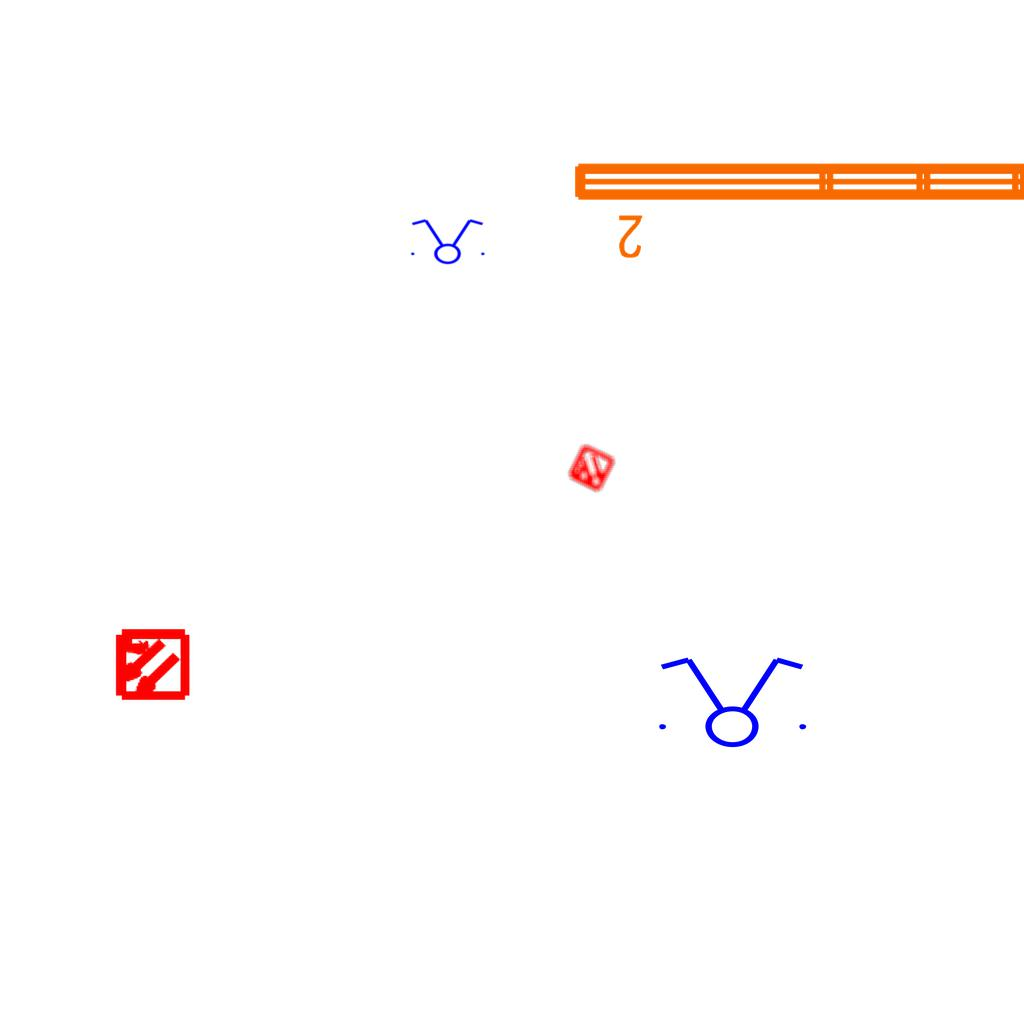Ambulanz_Pendelleuchte_LED: (566, 151, 1024, 263)
OT_Multisensormelder_(Kombination_RMO_WMD): (94, 608, 207, 721), (553, 431, 629, 507)
Serienschalter: (647, 653, 815, 749), (405, 217, 489, 265)
